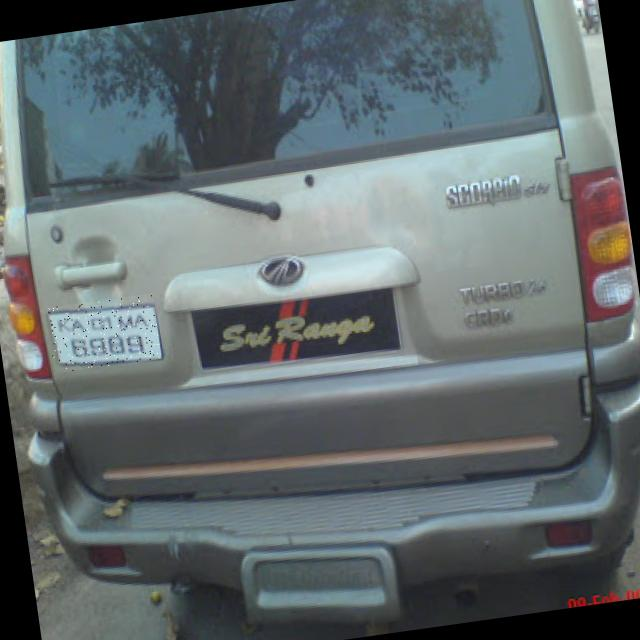Plate: (47, 294, 163, 374)
